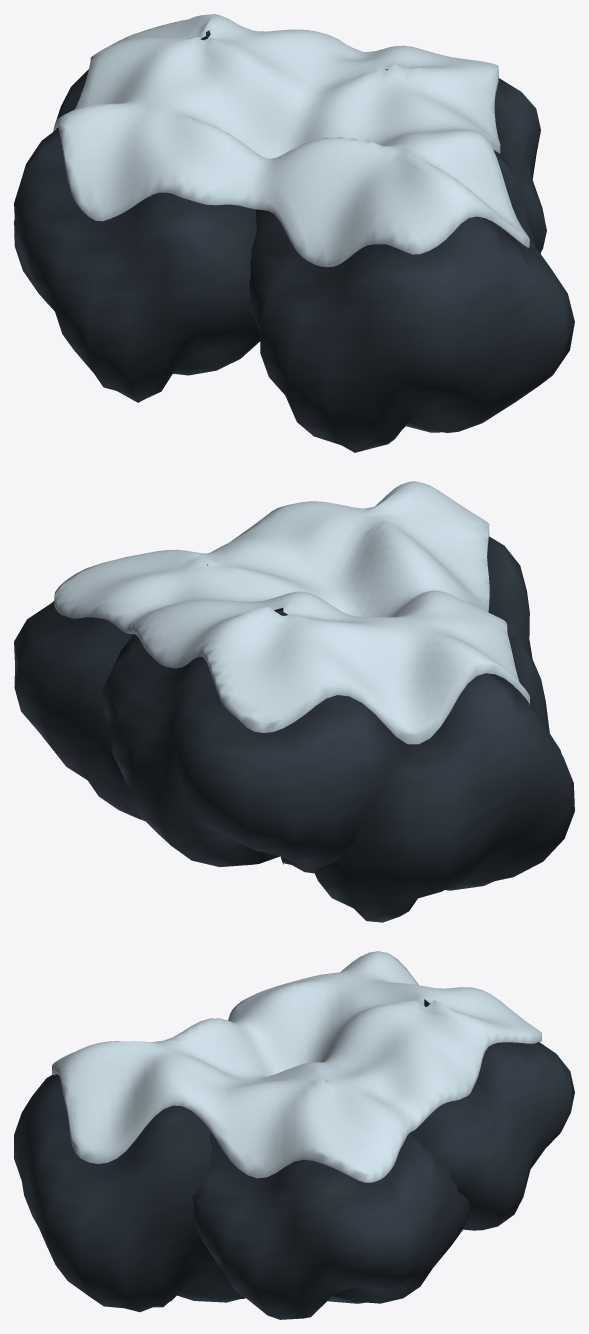
The model's file is fuel.glb.
3 views of the same model, one above another, from view 1: azimuth 30°, elevation 25°; view 2: azimuth 150°, elevation 25°; view 3: azimuth 270°, elevation 25° (orthographic). The views are drawn at different scales.
Visible parts, largest first — view 1: fuel; view 2: fuel; view 3: fuel.
Part boxes in pixels (x1,y1,x2,y2): fuel: (14,14,574,452); fuel: (14,481,574,922); fuel: (14,951,574,1319).
Bounding box in the file's own units: 1.54 × 0.8892 × 1.61.
2 materials, 2 textured.
